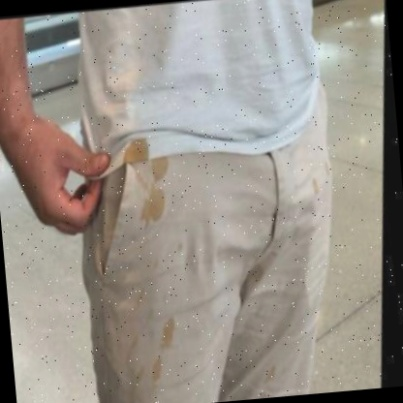coffee: (121, 137, 149, 164), (142, 191, 164, 221), (150, 156, 168, 182), (161, 322, 176, 347), (153, 361, 162, 380)
